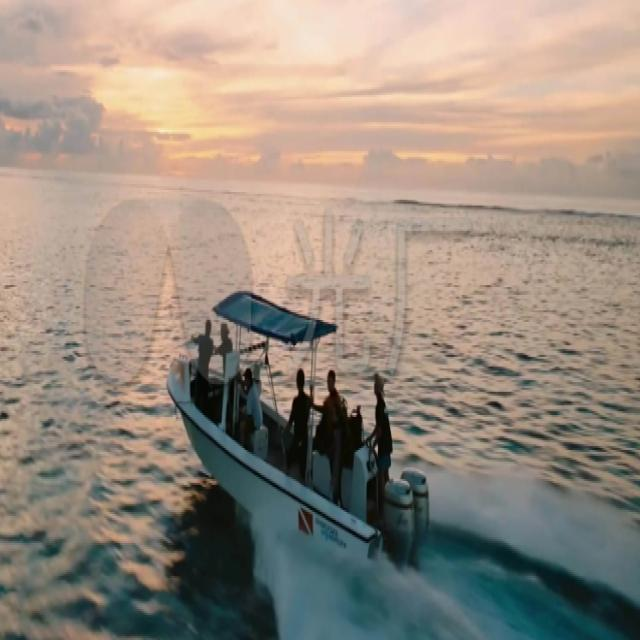houseboat: (169, 284, 414, 564)
